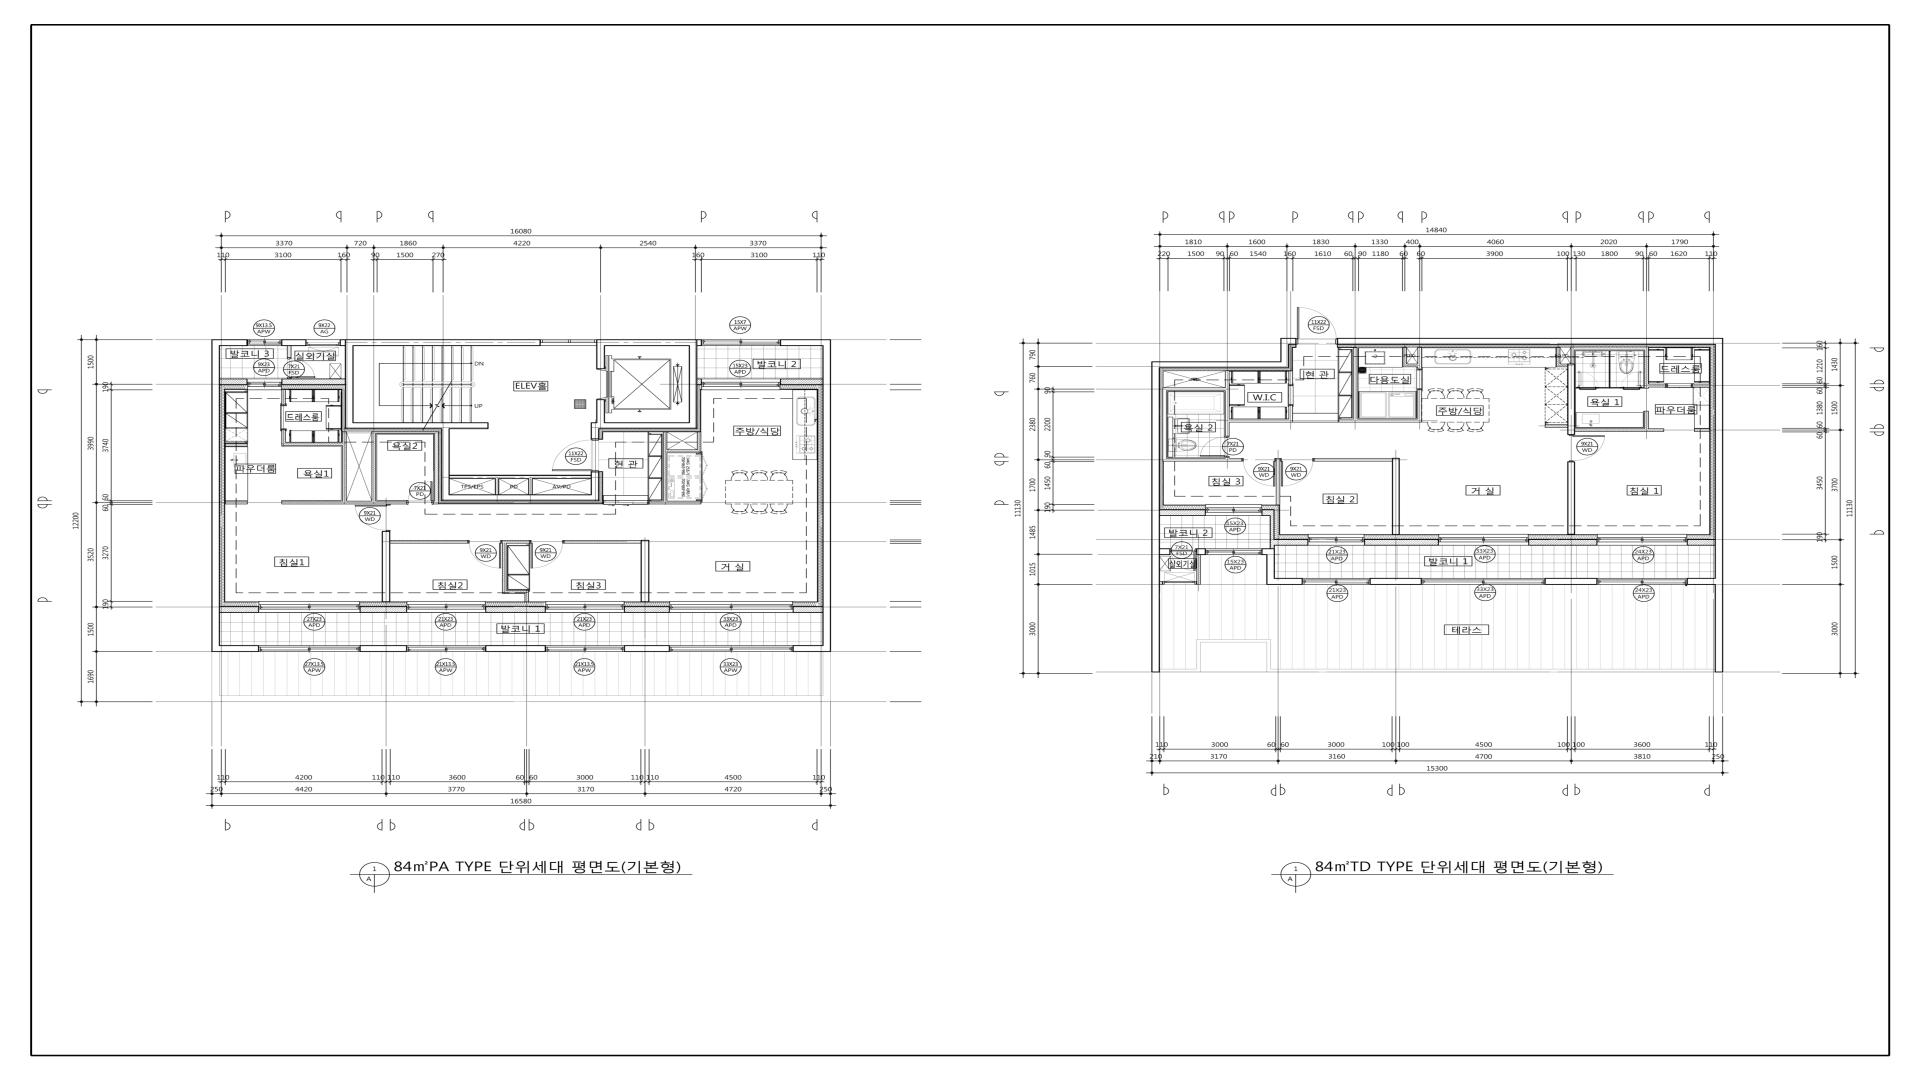door: (1296, 307, 1337, 345), (552, 439, 599, 472), (1280, 458, 1314, 487), (468, 540, 502, 569), (529, 540, 563, 569), (1569, 434, 1605, 461), (354, 504, 390, 531), (1242, 458, 1276, 486), (406, 481, 433, 505), (1200, 436, 1229, 457), (287, 358, 316, 379), (1170, 549, 1196, 571), (1577, 371, 1599, 388), (1621, 371, 1642, 388), (603, 500, 648, 505), (280, 405, 287, 430), (1665, 383, 1693, 388), (1417, 369, 1423, 390)
wall: (1151, 361, 1160, 672), (1337, 338, 1723, 345), (822, 346, 831, 645), (211, 346, 220, 645), (1715, 345, 1723, 672), (354, 339, 541, 346), (441, 494, 591, 501), (345, 422, 488, 429), (1160, 361, 1289, 368), (688, 339, 697, 422), (345, 339, 353, 422), (604, 422, 697, 429), (1392, 458, 1400, 534), (605, 339, 689, 346), (441, 429, 450, 494), (1567, 461, 1575, 534), (1567, 364, 1575, 435), (382, 531, 390, 602), (450, 475, 591, 479), (1364, 539, 1439, 546), (641, 540, 649, 602), (1529, 539, 1597, 546), (485, 606, 546, 613), (433, 434, 439, 504), (486, 645, 545, 652), (1162, 457, 1242, 462), (281, 379, 345, 385), (281, 501, 406, 504), (1545, 578, 1597, 585), (1370, 578, 1422, 585), (780, 339, 831, 346), (1575, 428, 1664, 432), (211, 645, 259, 652), (371, 434, 376, 501), (1266, 548, 1275, 585), (360, 606, 407, 613), (360, 645, 407, 652), (624, 645, 670, 652), (624, 606, 670, 613), (1160, 509, 1205, 516), (1314, 458, 1392, 462), (390, 540, 468, 544), (780, 378, 822, 385), (1353, 347, 1357, 419), (1163, 387, 1167, 458), (342, 431, 346, 501), (663, 432, 667, 501), (220, 606, 259, 613), (596, 339, 605, 369), (793, 645, 831, 652), (1225, 370, 1229, 436), (590, 472, 599, 501), (211, 339, 248, 346), (1339, 419, 1422, 422), (281, 442, 342, 446), (591, 422, 605, 439), (1167, 387, 1225, 391), (1275, 539, 1308, 546), (564, 540, 641, 543), (1575, 347, 1649, 350), (1280, 338, 1289, 361), (596, 399, 605, 422), (371, 431, 439, 434), (793, 606, 822, 613), (1687, 578, 1715, 585), (1275, 578, 1303, 585), (1687, 539, 1715, 546), (1270, 509, 1275, 548), (502, 543, 506, 591), (1229, 419, 1293, 422), (1644, 350, 1649, 388), (1276, 458, 1280, 505), (281, 339, 306, 346), (220, 379, 247, 385), (649, 501, 701, 504), (1196, 555, 1201, 585), (1417, 390, 1422, 419), (667, 449, 698, 453), (225, 443, 248, 447), (1418, 347, 1422, 369), (1545, 424, 1567, 428), (1402, 347, 1407, 364), (1644, 411, 1649, 428), (697, 432, 701, 453), (502, 540, 530, 543), (502, 591, 529, 594), (1556, 347, 1560, 367), (1288, 370, 1293, 385), (1288, 405, 1293, 419), (1196, 548, 1206, 555), (1160, 548, 1170, 555), (225, 501, 248, 504), (1571, 347, 1575, 364), (1694, 428, 1709, 432), (281, 390, 285, 405), (281, 430, 286, 442), (528, 479, 532, 494), (495, 479, 499, 494), (1262, 509, 1270, 516), (1649, 384, 1666, 387), (1289, 338, 1296, 345), (1402, 364, 1418, 367), (1693, 384, 1709, 387), (287, 346, 291, 358), (1609, 351, 1610, 387), (340, 339, 345, 346), (697, 339, 702, 346), (525, 594, 529, 602), (697, 379, 702, 385), (1262, 548, 1266, 555), (1599, 387, 1621, 388), (1560, 364, 1567, 367), (1160, 581, 1163, 585)
window: (670, 601, 793, 613), (258, 601, 360, 613), (1438, 534, 1529, 546), (1597, 534, 1687, 546), (407, 601, 486, 613), (545, 601, 624, 613), (701, 379, 780, 390), (1422, 578, 1545, 585), (670, 645, 793, 652), (1205, 504, 1262, 516), (1308, 534, 1364, 546), (1597, 578, 1687, 585), (259, 646, 360, 652), (545, 645, 624, 652), (702, 339, 780, 346), (1302, 578, 1370, 585), (407, 646, 485, 652), (1206, 549, 1262, 555), (541, 340, 596, 346), (247, 379, 281, 387), (306, 340, 340, 346), (248, 340, 281, 346), (1163, 581, 1197, 585)
